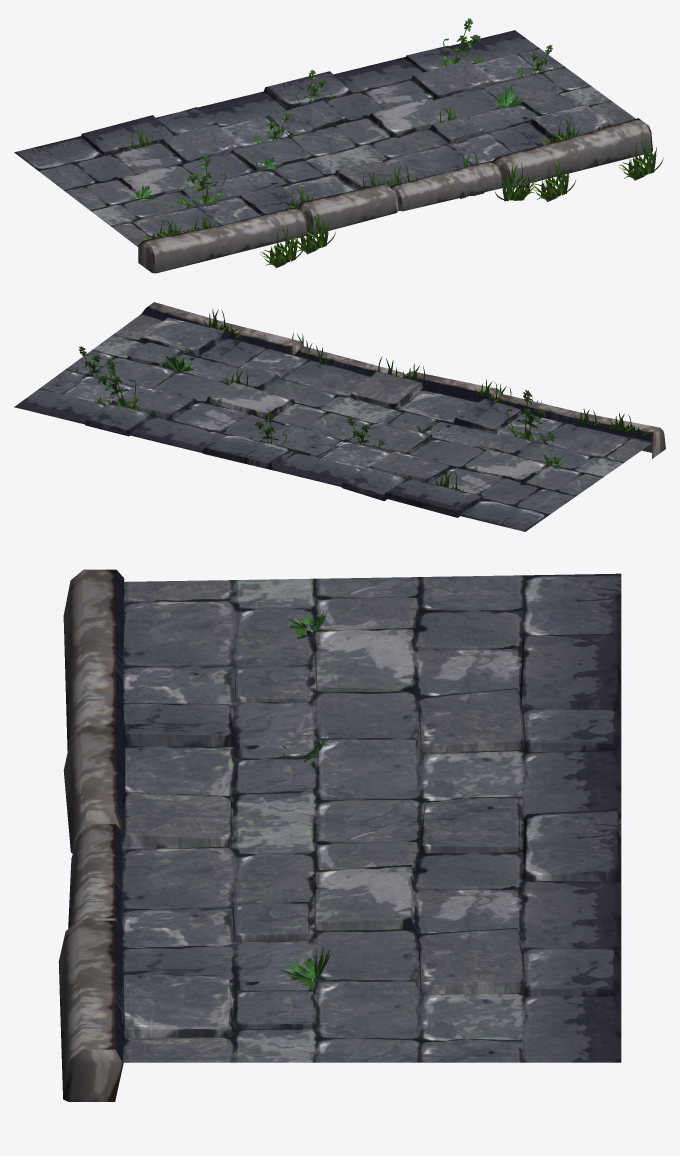
The model's file is Pavement.FBX.
The picture shows the model from 3 angles, top to bottom: view 1: azimuth 30°, elevation 25°; view 2: azimuth 150°, elevation 25°; view 3: azimuth 270°, elevation 25°; orthographic projection. The views are drawn at different scales.
Parts seen in each view (by area): view 1: PavementStraight; view 2: PavementStraight; view 3: PavementStraight.
Boxes of the visible parts, x1,y1,x2,y2 form: PavementStraight: (14,18,663,273); PavementStraight: (14,302,665,531); PavementStraight: (58,569,621,1101).
Size of the model in its own units: 149 by 25.87 by 71.
